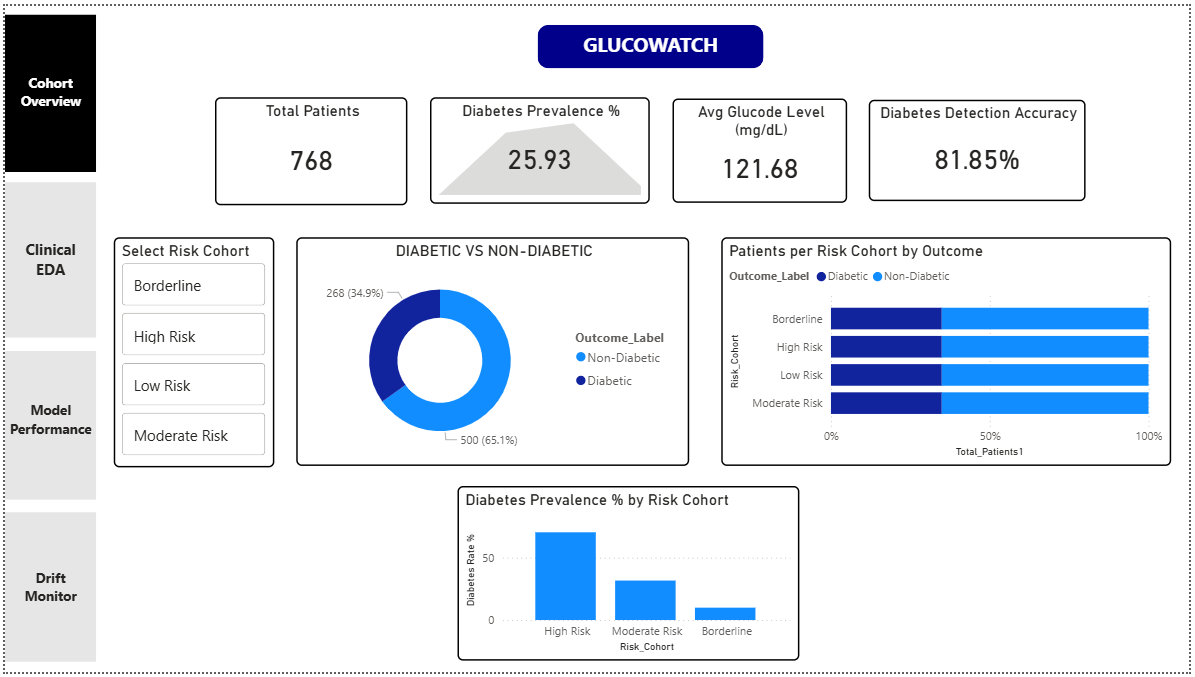

The dashboard page shown, as its layout file describes it:
{"tool":"powerbi","page":{"name":"Cohort Overview","canvas":[1280,720],"ordinal":0},"visuals":[{"type":"shape","box":[575,20.8,244.4,47.2],"z":1000,"group":"g2"},{"type":"donutChart","title":"DIABETIC VS NON-DIABETIC","fields":{"Y":["glucowatch_phase3_final.Total_Patients1"],"Category":["glucowatch_cleaned.Outcome_Label"]},"box":[315.3,249.7,425,247.2],"z":1000},{"type":"textbox","box":[610.7,22.2,174.4,45.8],"z":2000,"group":"g2"},{"type":"hundredPercentStackedBarChart","title":"Patients per Risk Cohort by Outcome","fields":{"Y":["glucowatch_phase3_final.Total_Patients1"],"Category":["glucowatch_phase3_final.Risk_Cohort"],"Series":["glucowatch_cleaned.Outcome_Label"]},"box":[775,249.7,486.1,247.2],"z":2000},{"type":"shape","box":[0,9.3,98.7,170],"z":3000,"group":"g6"},{"type":"kpi","title":"Diabetes Detection Accuracy","fields":{"TrendLine":["monitoring_log.window"],"Indicator":["glucowatch_cleaned.Baseline AUC"]},"box":[933.3,100.8,234.7,109.7],"z":3000,"group":"g1"},{"type":"clusteredColumnChart","title":"Diabetes Prevalence % by Risk Cohort","fields":{"Y":["glucowatch_cleaned.Diabetes Rate %"],"Category":["glucowatch_cleaned.Risk_Cohort"]},"box":[488.9,519.4,369.4,188.9],"z":3000},{"type":"kpi","title":"Total Patients","fields":{"Indicator":["glucowatch_phase3_final.Total_Patients1"],"TrendLine":["glucowatch_phase3_final.Age_Group"]},"box":[226.4,98.6,208.3,116.7],"z":4000,"group":"g1"},{"type":"advancedSlicerVisual","title":"Select Risk Cohort","fields":{"Values":["glucowatch_phase3_final.Risk_Cohort"]},"box":[118.1,250,173.6,248.6],"z":4000},{"type":"group","id":"g1","title":"Group 2","box":[226.4,98.6,941.7,116.7],"z":5000},{"type":"kpi","title":"Diabetes Prevalence %","fields":{"Indicator":["glucowatch_cleaned.Diabetes Rate %"],"TrendLine":["glucowatch_cleaned.Age_Group"]},"box":[458.3,98.6,237.5,115.3],"z":5000,"group":"g1"},{"type":"shape","box":[0,190.7,98.7,168.4],"z":5000,"group":"g5"},{"type":"group","id":"g2","title":"Group 7","box":[575,20.8,244.4,47.2],"z":6000},{"type":"kpi","title":"Avg Glucode Level (mg/dL)","fields":{"Indicator":["glucowatch_cleaned.Avg Glucose"],"TrendLine":["glucowatch_phase3_final.Risk_Cohort"]},"box":[721.6,99.9,188.9,112.5],"z":6000,"group":"g1"},{"type":"shape","box":[0,373.3,98.7,160.7],"z":7000,"group":"g4"},{"type":"shape","box":[0,546.7,98.7,161.7],"z":8000,"group":"g3"},{"type":"group","id":"g3","title":"Group 1","box":[0,546.7,98.7,161.7],"z":9000},{"type":"group","id":"g4","title":"Group 3","box":[0,373.3,98.7,160.7],"z":10000},{"type":"group","id":"g5","title":"Group 4","box":[0,190.7,98.7,168.4],"z":11000},{"type":"group","id":"g6","title":"Group 5","box":[0,9.3,98.7,170],"z":12000},{"type":"textbox","box":[6.7,67.5,85.3,50.7],"z":13000,"group":"g6"},{"type":"textbox","box":[0,248.1,98.6,58.3],"z":14000,"group":"g5"},{"type":"textbox","box":[0,422.2,98.7,57.3],"z":15000,"group":"g4"},{"type":"textbox","box":[0,601.8,98.7,52],"z":16000,"group":"g3"}]}

Visuals, with their boxes in screenshot pixels (x1, y1, x2, y2), scaled from the page's 1280x720 canvas onto the 1195x677 screenshot:
shape: locate(537, 20, 765, 64)
"DIABETIC VS NON-DIABETIC" donutChart: locate(294, 235, 691, 467)
textbox: locate(570, 21, 733, 64)
"Patients per Risk Cohort by Outcome" hundredPercentStackedBarChart: locate(724, 235, 1177, 467)
shape: locate(0, 9, 92, 169)
"Diabetes Detection Accuracy" kpi: locate(871, 95, 1090, 198)
"Diabetes Prevalence % by Risk Cohort" clusteredColumnChart: locate(456, 488, 801, 666)
"Total Patients" kpi: locate(211, 93, 406, 202)
"Select Risk Cohort" advancedSlicerVisual: locate(110, 235, 272, 469)
"Group 2" group: locate(211, 93, 1091, 202)
"Diabetes Prevalence %" kpi: locate(428, 93, 650, 201)
shape: locate(0, 179, 92, 338)
"Group 7" group: locate(537, 20, 765, 64)
"Avg Glucode Level (mg/dL)" kpi: locate(674, 94, 850, 200)
shape: locate(0, 351, 92, 502)
shape: locate(0, 514, 92, 666)
"Group 1" group: locate(0, 514, 92, 666)
"Group 3" group: locate(0, 351, 92, 502)
"Group 4" group: locate(0, 179, 92, 338)
"Group 5" group: locate(0, 9, 92, 169)
textbox: locate(6, 63, 86, 111)
textbox: locate(0, 233, 92, 288)
textbox: locate(0, 397, 92, 451)
textbox: locate(0, 566, 92, 615)
